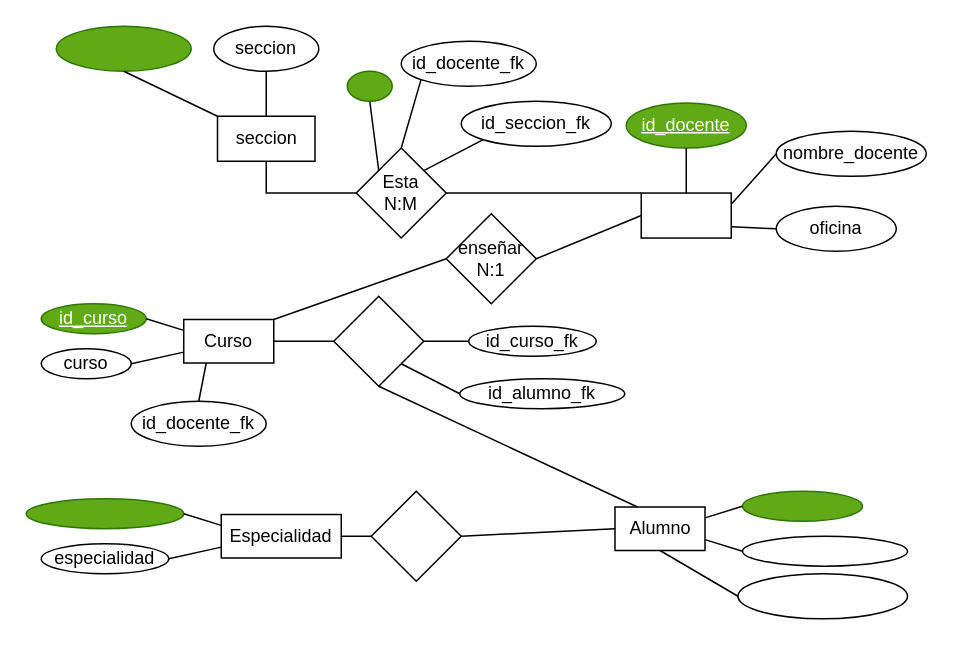
This 953x645 diagram has some shape labels left out. The box of each missing label's shape, as (x1, y1, x2, y2) in pixels:
cod_alumno: (741, 490, 862, 521)
Docente: (640, 192, 731, 238)
estar 1:N: (370, 490, 461, 581)
estar N:M: (332, 295, 424, 386)
id: (346, 70, 392, 101)
id_especialidad: (25, 497, 184, 529)
id_especialidad_fk: (736, 572, 908, 619)
id_seccion: (55, 25, 191, 71)
nombre_alumno: (741, 535, 908, 566)
